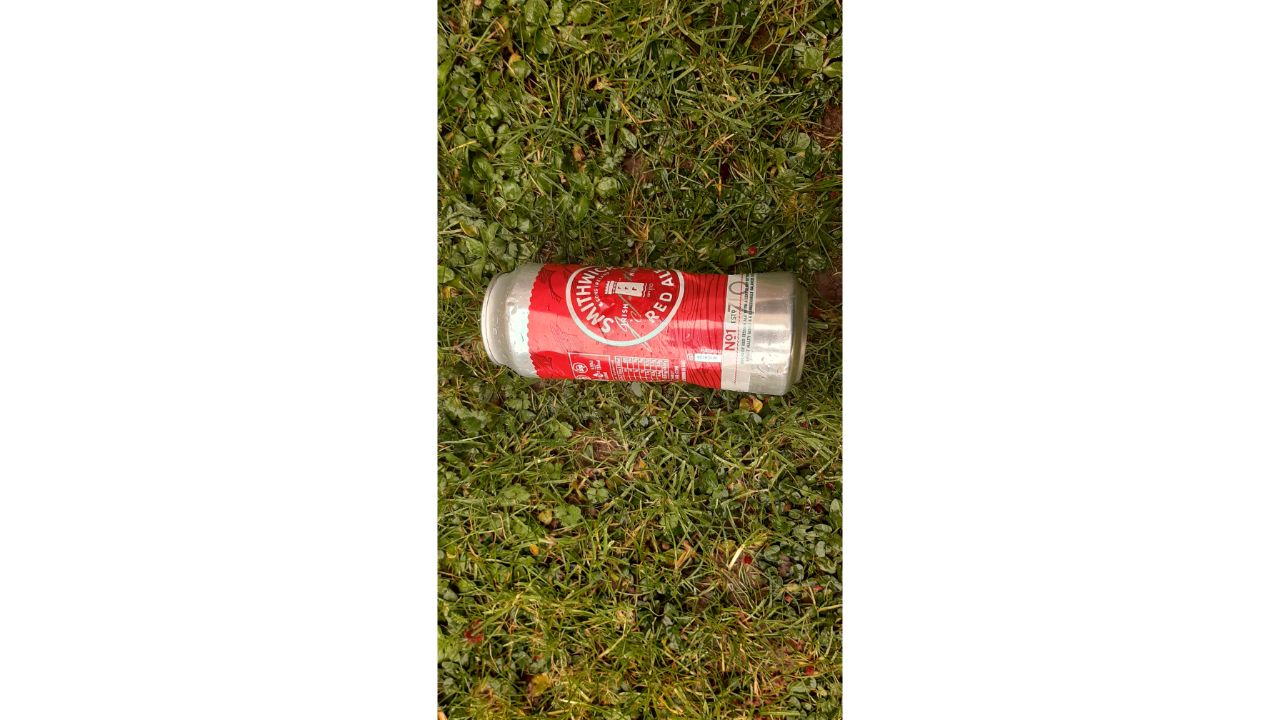Can: (478, 258, 810, 400)
